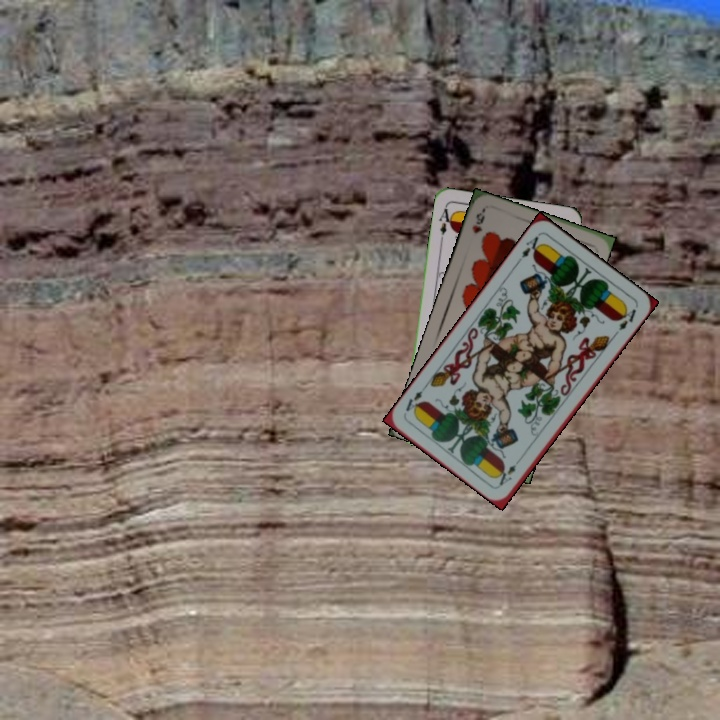EA: (513, 231, 544, 266), (495, 453, 525, 488), (435, 202, 456, 243)
H9: (468, 207, 487, 236)
